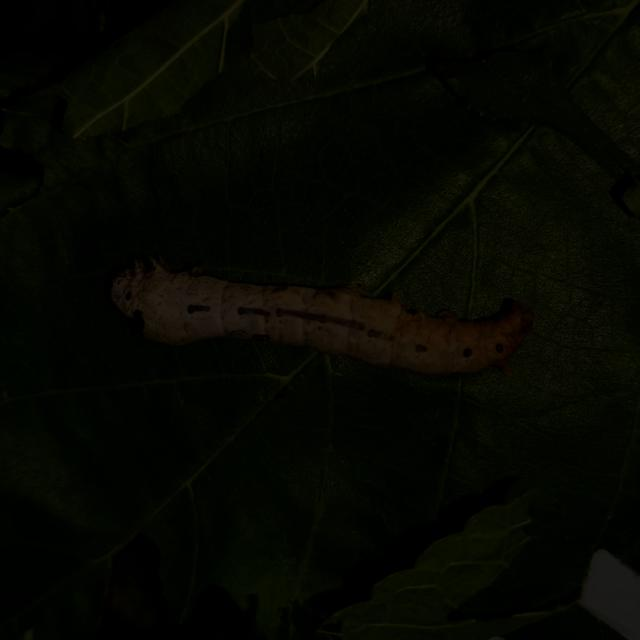Grasserie: (96, 232, 535, 410)
